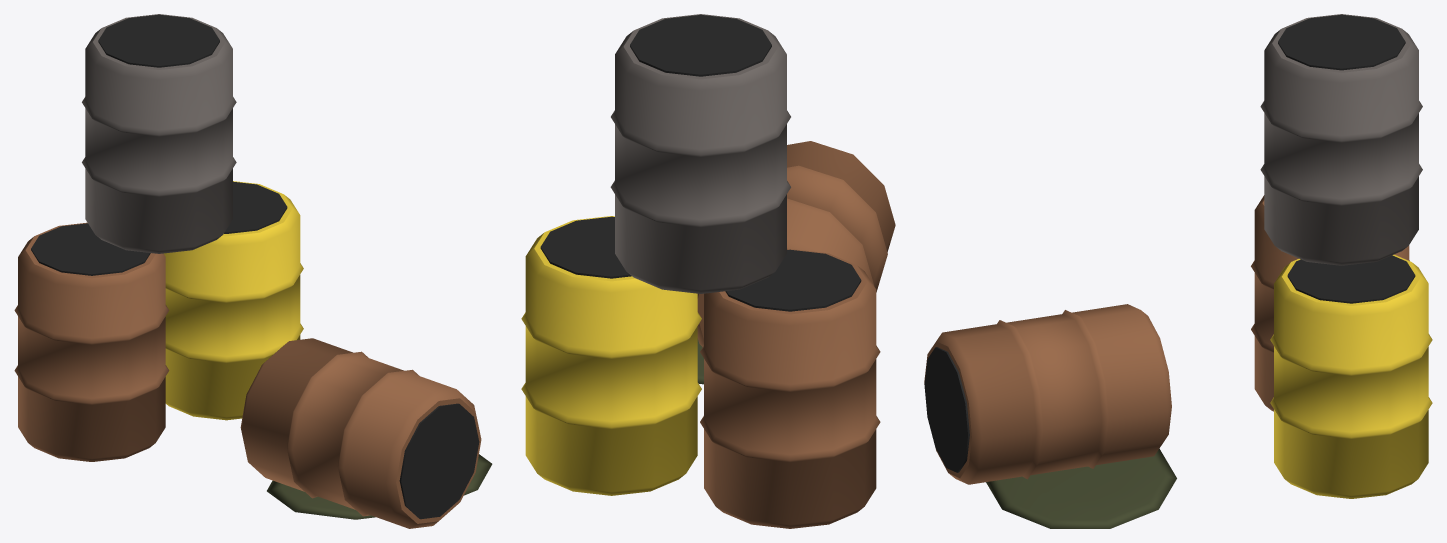
The model's file is wk_drums.glb.
The picture shows the model from 3 angles, left to right: view 1: azimuth 30°, elevation 25°; view 2: azimuth 150°, elevation 25°; view 3: azimuth 270°, elevation 25°; orthographic projection. The views are drawn at different scales.
Parts seen in each view (by area): view 1: wk_drums; view 2: wk_drums; view 3: wk_drums.
Part boxes in pixels (bbox=[...]): wk_drums: bbox=[14, 14, 492, 528]; wk_drums: bbox=[521, 14, 895, 528]; wk_drums: bbox=[924, 14, 1432, 528].
Size of the model in its own units: 2.09 by 2.25 by 2.63.
